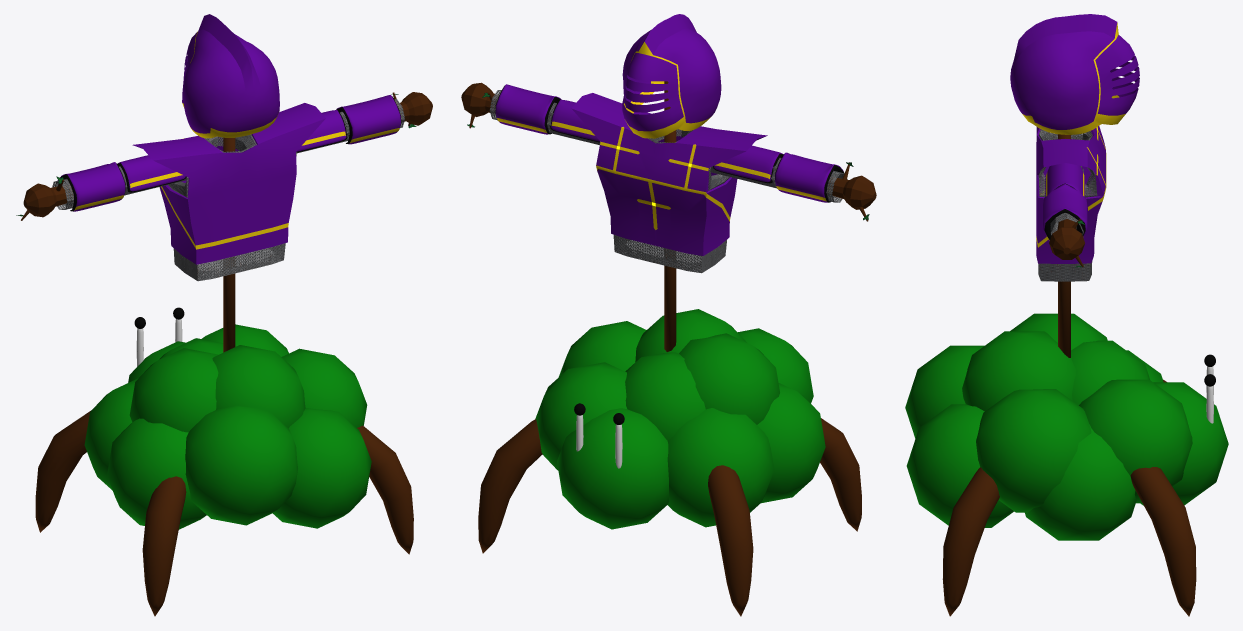
Rendered from DRYAD puppet.fbx.
The picture shows the model from 3 angles, left to right: view 1: azimuth 30°, elevation 25°; view 2: azimuth 150°, elevation 25°; view 3: azimuth 270°, elevation 25°; orthographic projection. The views are drawn at different scales.
Parts seen in each view (by area): view 1: Mball.002, Plane, Roundcube, Cylinder.001, Cylinder.002, Cylinder; view 2: Mball.002, Plane, Roundcube, Cylinder.001, Cylinder.002, Cylinder; view 3: Mball.002, Roundcube, Plane, Cylinder.001, Cylinder.002, Cylinder.
Part boxes in pixels (x1=…): Mball.002: x1=35, y1=307, x2=413, y2=616; Plane: x1=132, y1=103, x2=325, y2=281; Roundcube: x1=182, y1=14, x2=279, y2=138; Cylinder.001: x1=52, y1=95, x2=404, y2=211; Cylinder.002: x1=16, y1=92, x2=432, y2=220; Cylinder: x1=223, y1=137, x2=235, y2=352; Mball.002: x1=478, y1=309, x2=861, y2=616; Plane: x1=571, y1=93, x2=767, y2=273; Roundcube: x1=622, y1=14, x2=721, y2=138; Cylinder.001: x1=489, y1=84, x2=847, y2=202; Cylinder.002: x1=461, y1=82, x2=876, y2=221; Cylinder: x1=664, y1=81, x2=676, y2=351; Mball.002: x1=905, y1=313, x2=1228, y2=616; Roundcube: x1=1010, y1=14, x2=1139, y2=134; Plane: x1=1036, y1=126, x2=1106, y2=281; Cylinder.001: x1=1042, y1=134, x2=1087, y2=240; Cylinder.002: x1=1049, y1=218, x2=1085, y2=267; Cylinder: x1=1058, y1=134, x2=1070, y2=357.
Size of the model in its own units: 228 by 275 by 149.
